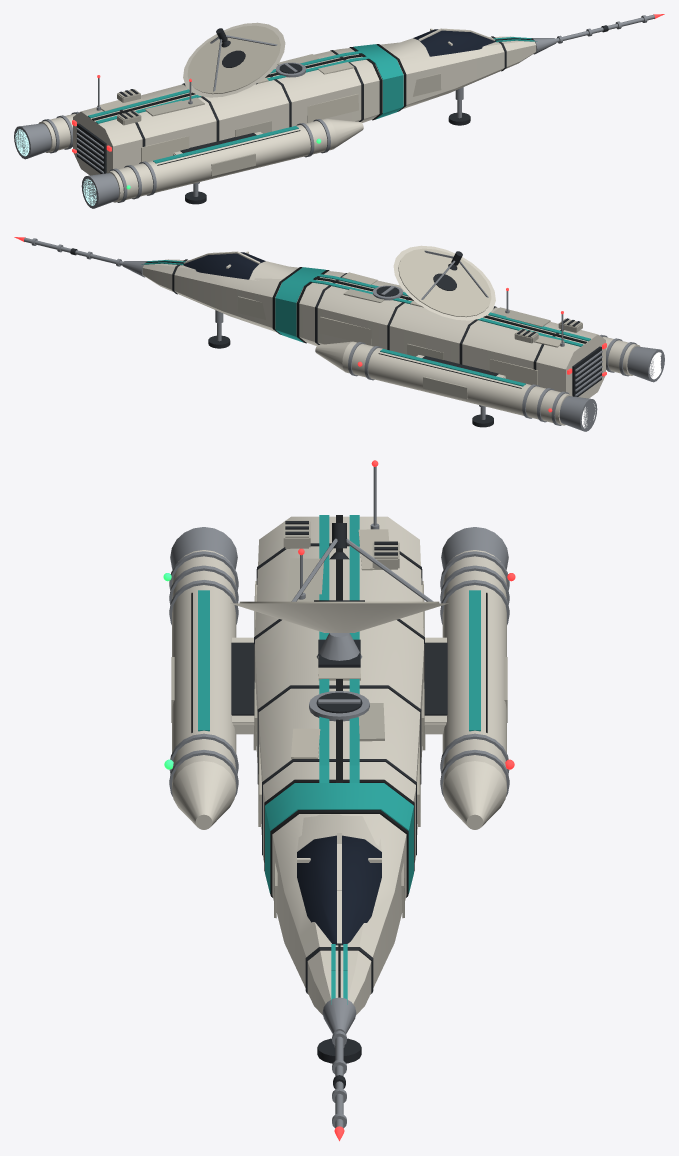
Rendered from hull_explorer.glb.
3 renders of one model, top to bottom at view 1: azimuth 30°, elevation 25°; view 2: azimuth 150°, elevation 25°; view 3: azimuth 270°, elevation 25°, orthographic. The views are drawn at different scales.
Visible parts, largest first — view 1: hull_explorer_hull_white, hull_explorer_hull_patch_a, hull_explorer_steel, hull_explorer_stripe_teal, hull_explorer_seam_dark, hull_explorer_hull_patch_b, hull_explorer_canopy_glass, hull_explorer_stripe_black, hull_explorer_nozzle_glow; view 2: hull_explorer_hull_white, hull_explorer_hull_patch_a, hull_explorer_steel, hull_explorer_stripe_teal, hull_explorer_seam_dark, hull_explorer_hull_patch_b, hull_explorer_canopy_glass, hull_explorer_stripe_black, hull_explorer_nozzle_glow; view 3: hull_explorer_hull_white, hull_explorer_steel, hull_explorer_stripe_teal, hull_explorer_seam_dark, hull_explorer_canopy_glass, hull_explorer_hull_patch_b, hull_explorer_hull_patch_a, hull_explorer_stripe_black.
Boxes of the visible parts, x1,y1,x2,y2 form: hull_explorer_hull_white: [38, 22, 536, 202]; hull_explorer_hull_patch_a: [97, 25, 358, 162]; hull_explorer_steel: [14, 14, 654, 208]; hull_explorer_stripe_teal: [88, 37, 537, 163]; hull_explorer_seam_dark: [77, 25, 608, 204]; hull_explorer_hull_patch_b: [117, 54, 441, 176]; hull_explorer_canopy_glass: [413, 29, 495, 56]; hull_explorer_stripe_black: [92, 38, 532, 165]; hull_explorer_nozzle_glow: [15, 129, 96, 205]; hull_explorer_hull_white: [142, 245, 640, 425]; hull_explorer_hull_patch_a: [320, 248, 564, 385]; hull_explorer_steel: [24, 237, 664, 431]; hull_explorer_stripe_teal: [141, 260, 590, 386]; hull_explorer_seam_dark: [70, 248, 601, 427]; hull_explorer_hull_patch_b: [237, 289, 582, 399]; hull_explorer_canopy_glass: [183, 252, 265, 279]; hull_explorer_stripe_black: [146, 261, 586, 388]; hull_explorer_nozzle_glow: [581, 352, 661, 428]; hull_explorer_hull_white: [172, 516, 506, 1014]; hull_explorer_steel: [169, 466, 509, 1128]; hull_explorer_stripe_teal: [198, 515, 480, 1004]; hull_explorer_seam_dark: [231, 521, 447, 1088]; hull_explorer_canopy_glass: [297, 835, 381, 945]; hull_explorer_hull_patch_b: [171, 520, 507, 918]; hull_explorer_hull_patch_a: [239, 529, 439, 826]; hull_explorer_stripe_black: [191, 515, 487, 997].
Bounding box in the file's own units: 16.6 × 3.92 × 4.16.
